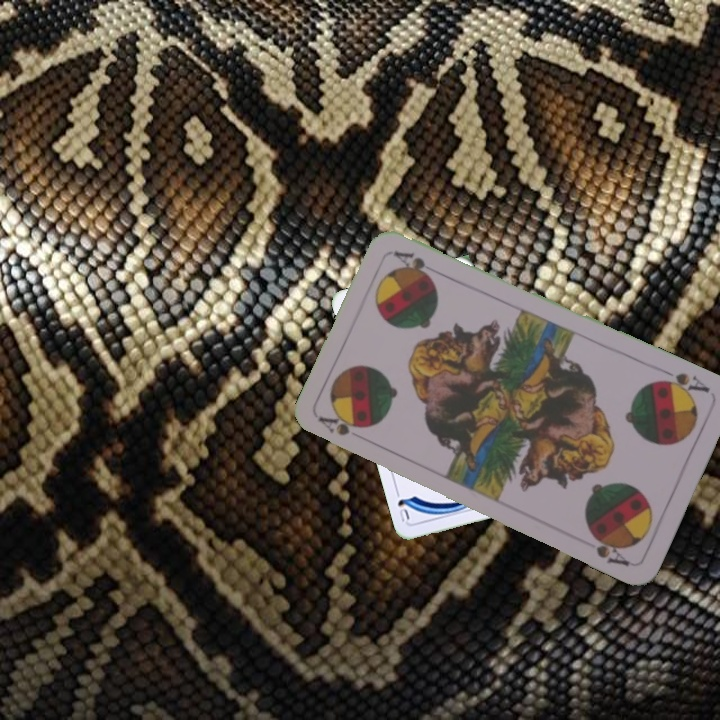SA: (652, 364, 713, 400), (315, 412, 365, 439)
